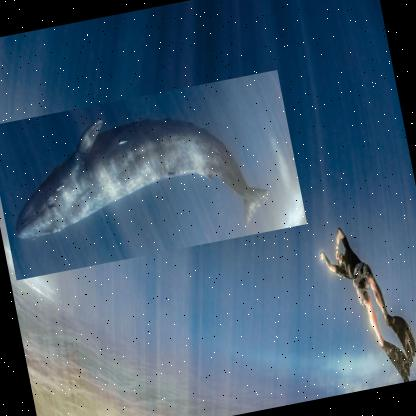blue_whale: (0, 68, 308, 281)
